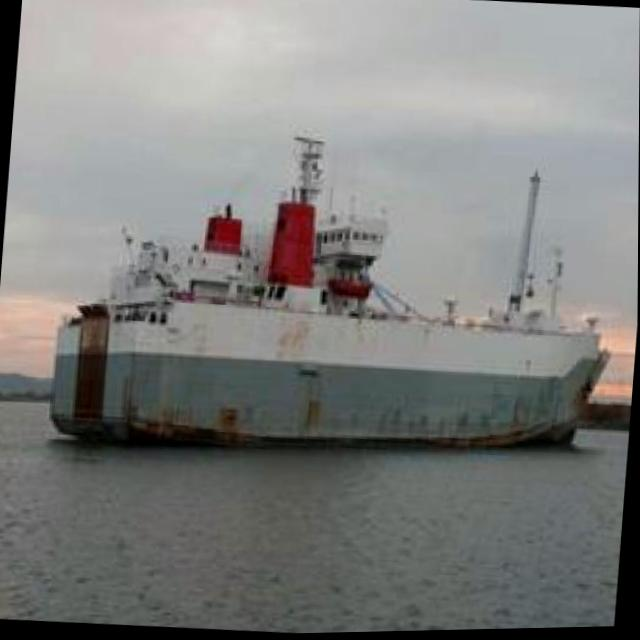ship2: (50, 138, 614, 454)
